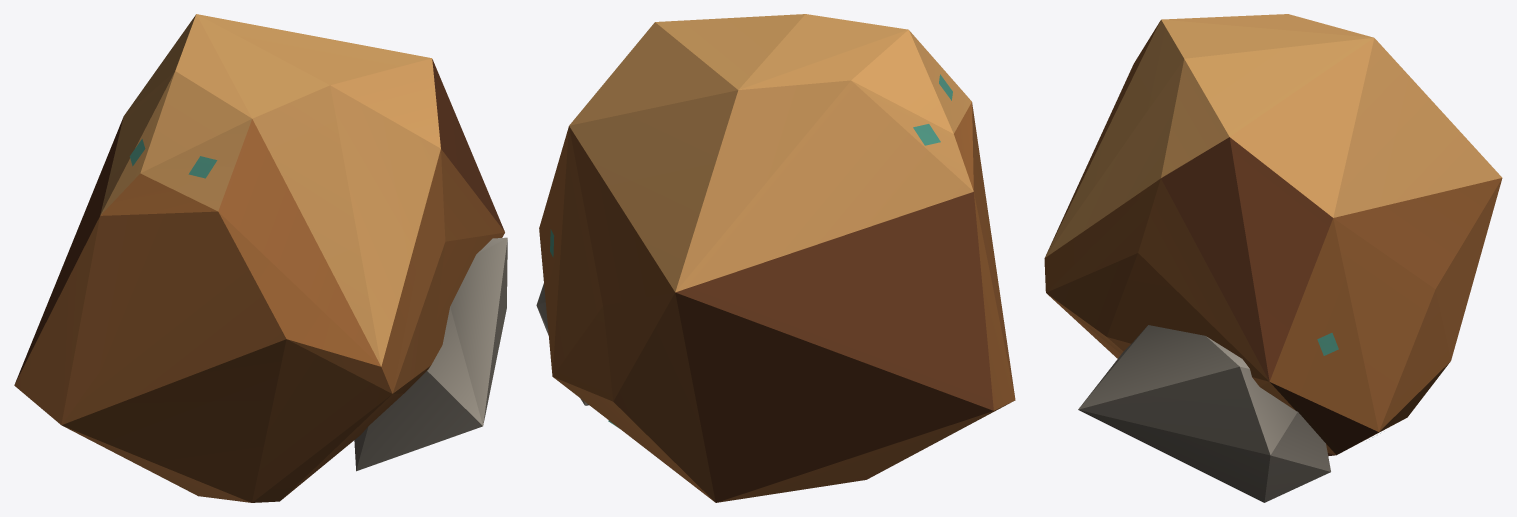
File: ore_copper.glb
3 renders of one model, left to right at view 1: azimuth 30°, elevation 25°; view 2: azimuth 150°, elevation 25°; view 3: azimuth 270°, elevation 25°, orthographic. The views are drawn at different scales.
Size of the model in its own units: 0.26 by 0.22 by 0.23.
